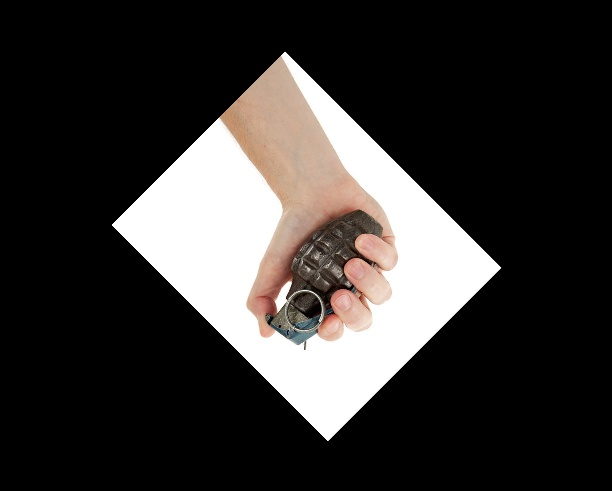e1: (262, 205, 385, 344)
